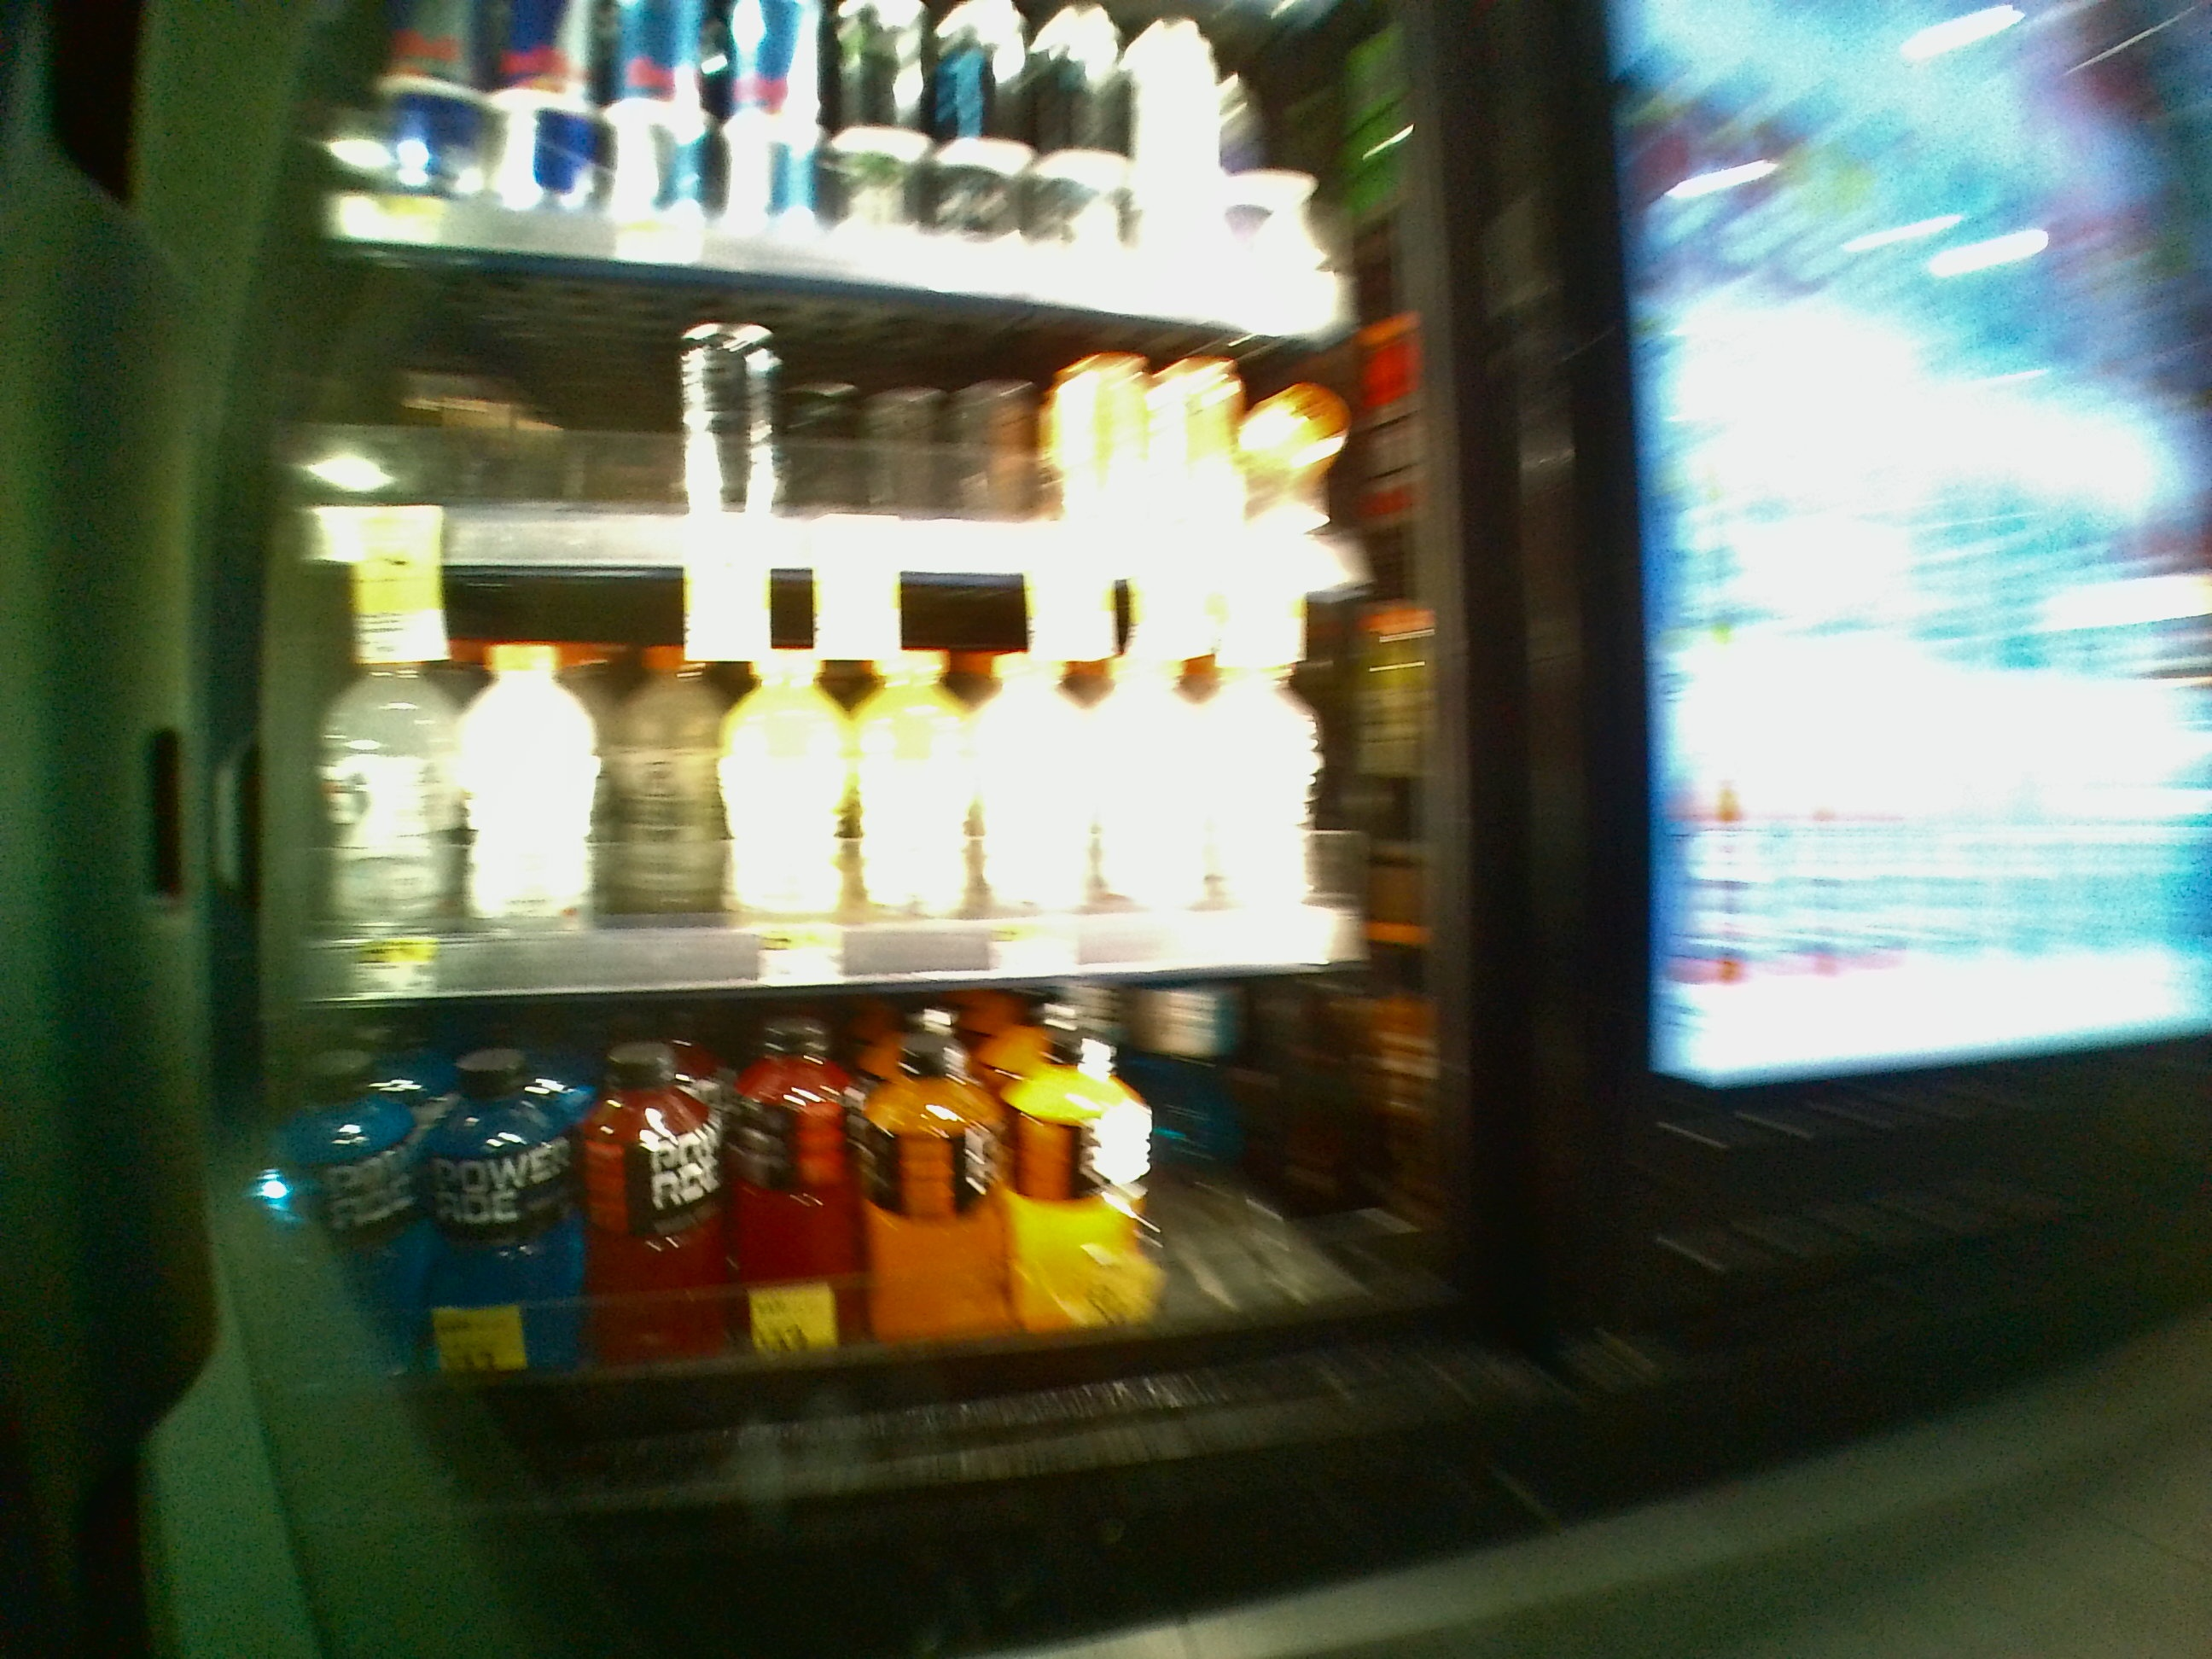shelf: (268, 549, 1479, 983), (258, 981, 1479, 1392)
